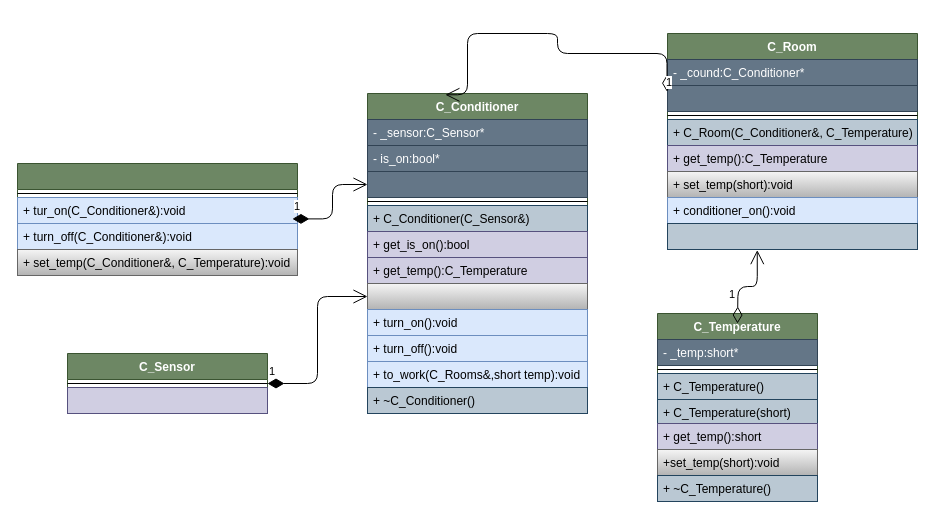
Image size: 935x522. Some labels were removed from this diagram. The shapes that lost their labels are listed below. From the top down, each one's box as (x1, y1, x2, y2) in pixels, then its label:
(666, 84, 918, 112): - _temp:C_Temperature*
(366, 170, 588, 198): - _needed_temp:C_Temperature*
(16, 162, 298, 276): C_Controller
(666, 222, 918, 250): + ~C_Room()
(366, 282, 588, 310): + set_temp(C_Temperature):void
(66, 386, 268, 414): + get_temp(C_Temperature&):short
